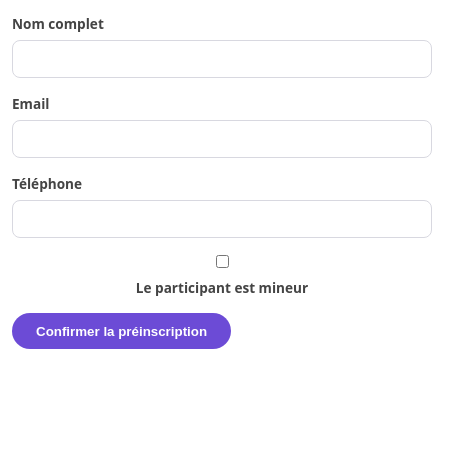
Scenario: PreinscriptionForm › révèle la case de consentement parental uniquement si "mineur" est cochée
Check: the text "en tant que parent ou tuteur légal" is not shown
Click the checkbox labelled "Le participant est mineur" at (222, 262), box [216,255,229,268]
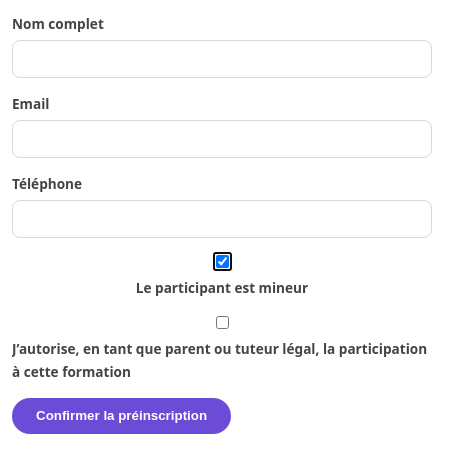
Check: the text "en tant que parent ou tuteur légal" is shown, box [12,339,427,381]
